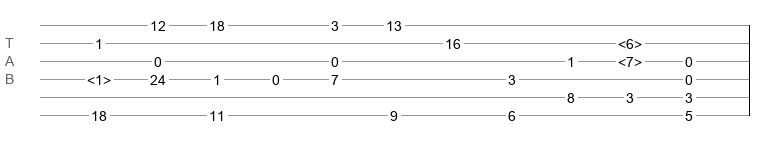0: (154, 54, 162, 64), (272, 72, 280, 82), (331, 54, 339, 64), (685, 54, 693, 64), (685, 72, 693, 82)
1: (95, 36, 103, 46), (213, 72, 221, 82), (567, 54, 575, 64)
11: (209, 108, 225, 118)
12: (150, 18, 166, 28)
13: (386, 18, 402, 28)
16: (445, 36, 461, 46)
18: (91, 108, 107, 118), (209, 18, 225, 28)
24: (150, 72, 166, 82)
3: (331, 18, 339, 28), (508, 72, 516, 82), (626, 90, 634, 100), (685, 90, 693, 100)
5: (685, 108, 693, 118)
6: (508, 108, 516, 118)
7: (331, 72, 339, 82)
8: (567, 90, 575, 100)
9: (390, 108, 398, 118)
harmonic: (87, 72, 111, 82), (618, 54, 642, 64), (618, 36, 642, 46)
